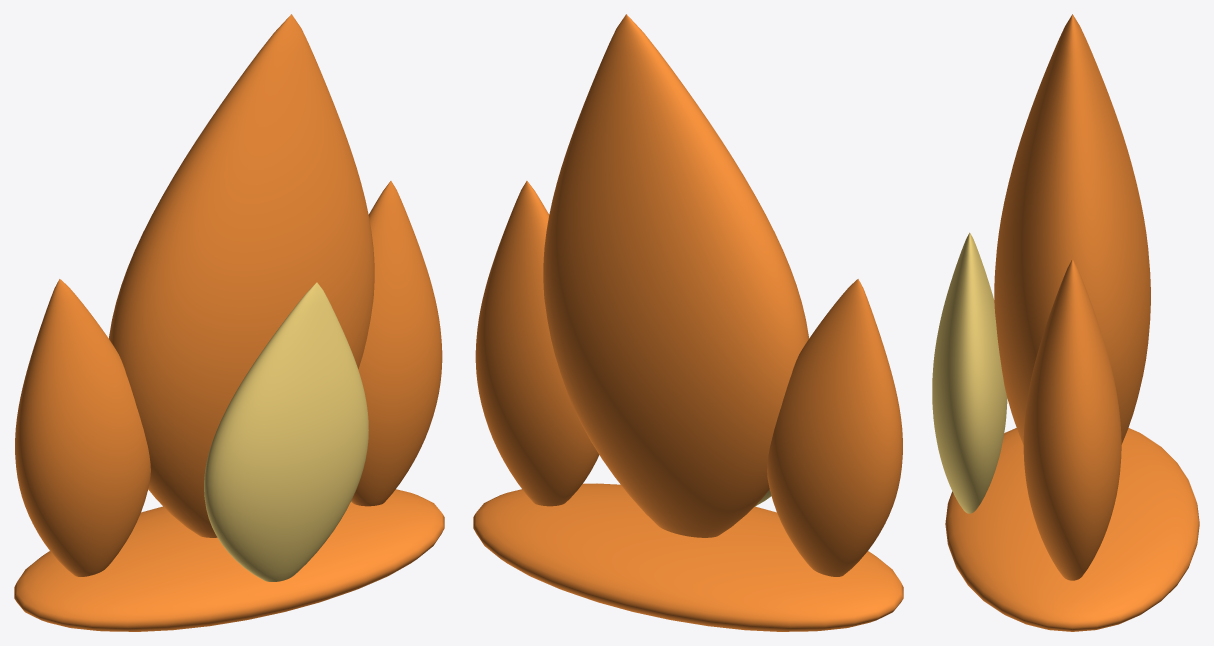
The model's file is 11-flame-tip.glb.
3 renders of one model, left to right at view 1: azimuth 30°, elevation 25°; view 2: azimuth 150°, elevation 25°; view 3: azimuth 270°, elevation 25°, orthographic. The views are drawn at different scales.
Parts seen in each view (by area): view 1: flame_center, flame_yellow, flame_mount, flame_left, flame_right; view 2: flame_center, flame_mount, flame_left, flame_right; view 3: flame_center, flame_mount, flame_right, flame_yellow.
Part boxes in pixels (box(x1,y1,x2,y2)): flame_center: box(109, 14, 374, 537); flame_yellow: box(204, 282, 368, 581); flame_mount: box(14, 489, 444, 631); flame_left: box(15, 279, 150, 576); flame_right: box(351, 181, 442, 506); flame_center: box(543, 14, 808, 537); flame_mount: box(473, 483, 903, 631); flame_left: box(767, 279, 902, 576); flame_right: box(475, 181, 598, 506); flame_center: box(994, 14, 1150, 444); flame_mount: box(945, 428, 1199, 631); flame_right: box(1023, 259, 1121, 580); flame_yellow: box(932, 232, 1007, 513).
Size of the model in its own units: 0.5057 by 0.645 by 0.2735.
